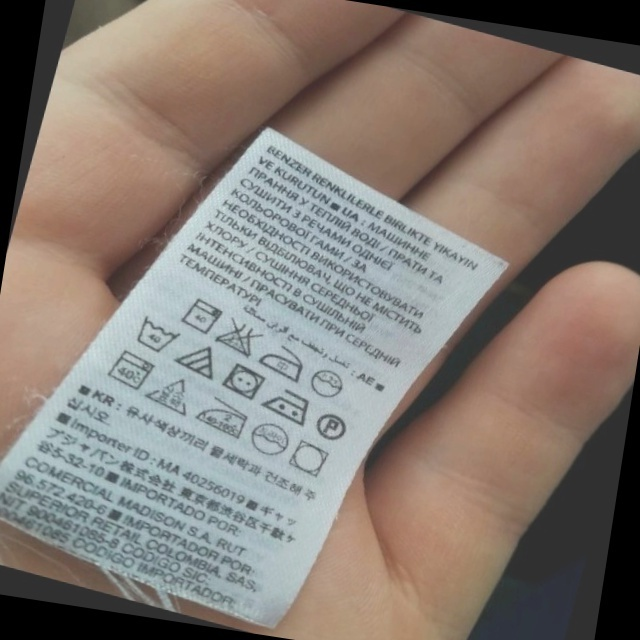40C: (133, 313, 186, 359), (108, 346, 157, 395), (181, 294, 226, 339)
dry_clean: (247, 417, 296, 461), (306, 363, 351, 405)
dry_clean_any_solvent_except_trichloroethylene: (313, 408, 352, 444)
iron: (257, 340, 311, 383)
iron_medium: (194, 395, 254, 441), (263, 384, 315, 426)
non_chlorine_bleach: (147, 372, 199, 420), (175, 339, 225, 382)
tumble_dry_medium: (219, 358, 272, 403)
tumble_dry_normal: (284, 437, 335, 483)
